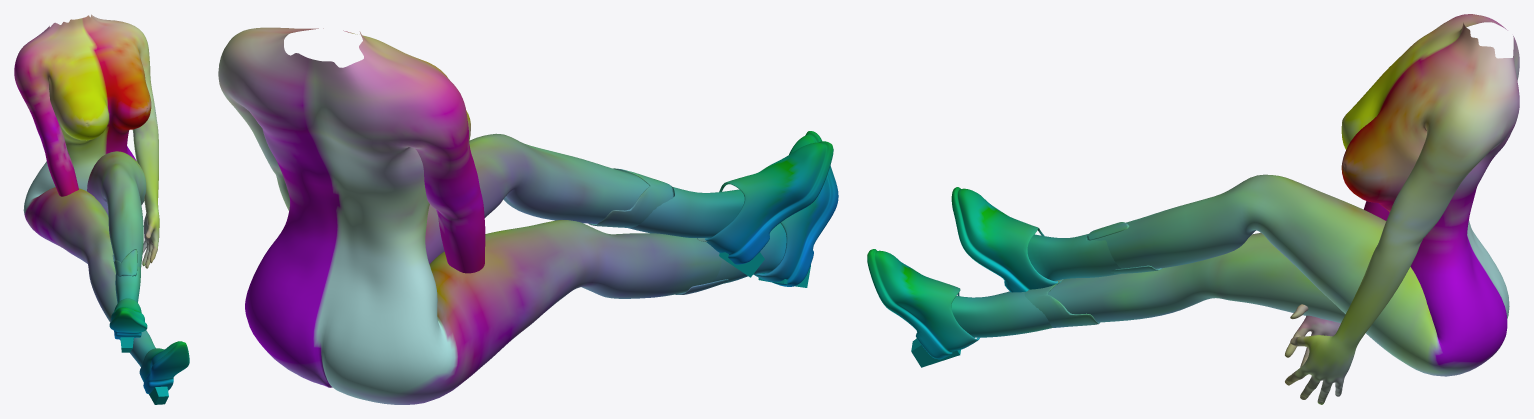
Rendered from lounge-legs-cross.glb.
The picture shows the model from 3 angles, left to right: view 1: azimuth 30°, elevation 25°; view 2: azimuth 150°, elevation 25°; view 3: azimuth 270°, elevation 25°; orthographic projection. The views are drawn at different scales.
Visible parts, largest first — view 1: Human_baked, Human.shoes03_baked, shaft_baked, heel.R_baked, heel.L_baked; view 2: Human_baked, Human.shoes03_baked, shaft_baked; view 3: Human_baked, Human.shoes03_baked, shaft_baked.
Part boxes in pixels (bbox=[...]): Human_baked: bbox=[14, 14, 159, 322]; Human.shoes03_baked: bbox=[109, 266, 189, 394]; shaft_baked: bbox=[112, 249, 146, 340]; heel.R_baked: bbox=[149, 386, 168, 404]; heel.L_baked: bbox=[120, 337, 133, 352]; Human_baked: bbox=[218, 27, 721, 404]; Human.shoes03_baked: bbox=[628, 131, 838, 286]; shaft_baked: bbox=[589, 168, 728, 294]; Human_baked: bbox=[1048, 14, 1519, 404]; Human.shoes03_baked: bbox=[867, 187, 1120, 359]; shaft_baked: bbox=[1024, 222, 1162, 327].
Bounding box in the file's own units: 0.5829 × 0.7673 × 1.11.
